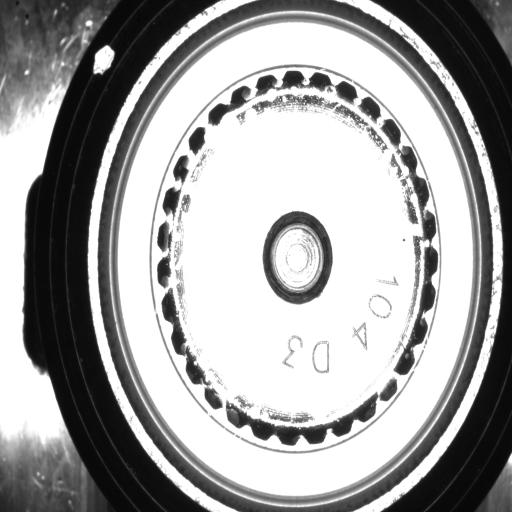gear: (154, 65, 442, 450)
